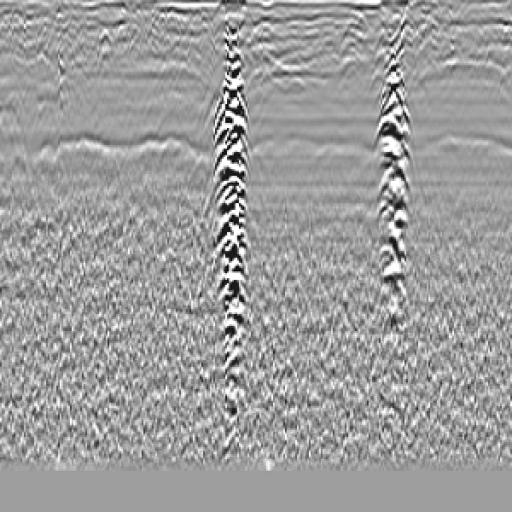metalic: (201, 8, 268, 443), (364, 1, 429, 379)
